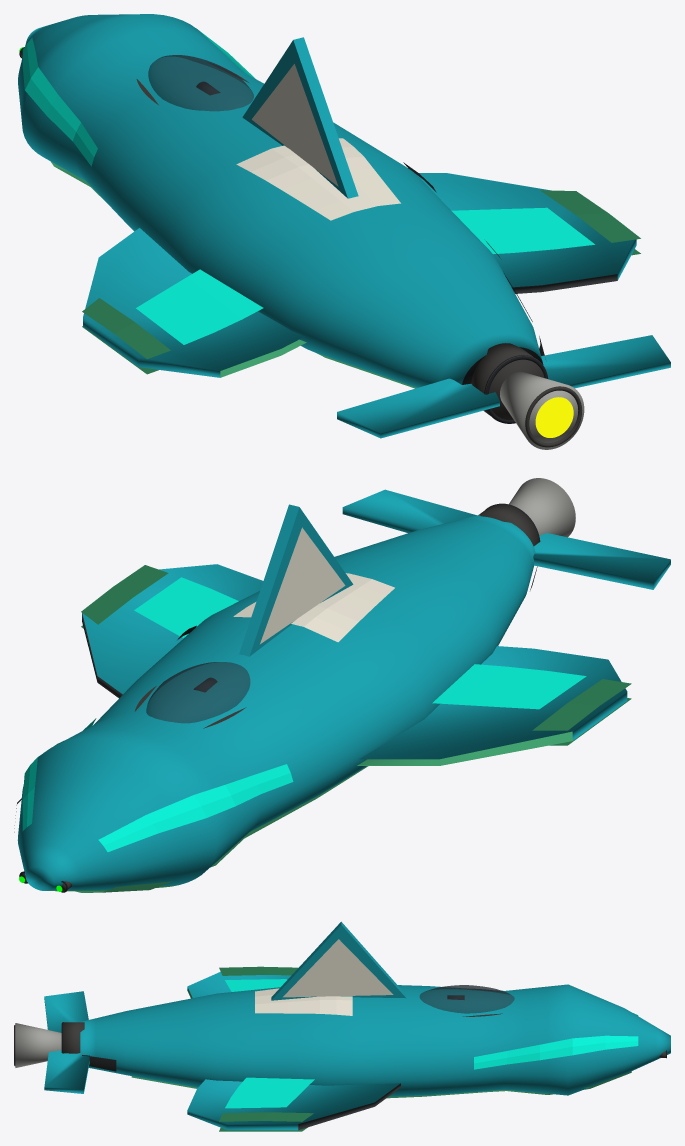
File: Ship_Orca_809222.glb
The picture shows the model from 3 angles, top to bottom: view 1: azimuth 30°, elevation 25°; view 2: azimuth 150°, elevation 25°; view 3: azimuth 270°, elevation 25°; orthographic projection. The views are drawn at different scales.
Parts seen in each view (by area): view 1: Fuselage_OrcaCountershadedHull, PectoralFin_Left_AerofoilWingFin, PectoralFin_Right_AerofoilWingFin, PaintSaddlePatch_DorsalSweptBackMark, TailFluke_Left_SweptAftStabilizer, PectoralFinPaint_Left_BroadSimplePanelTop, CanopyGlass_LowInsetDome, PectoralFinPaint_Right_BroadSimplePanelTop, TailFluke_Right_SweptAftStabilizer, DorsalFin_MainSweptKeel, DorsalFinTrimPatch_LeftFace, EngineBell_MainLargeBurnishedNozzle (+6 smaller); view 2: Fuselage_OrcaCountershadedHull, PectoralFin_Left_AerofoilWingFin, PectoralFin_Right_AerofoilWingFin, CanopyGlass_LowInsetDome, PectoralFinPaint_Left_BroadSimplePanelTop, TailFluke_Left_SweptAftStabilizer, PaintEyePatch_Left_ForwardWhiteComma, DorsalFinTrimPatch_LeftFace, DorsalFin_MainSweptKeel, PaintSaddlePatch_DorsalSweptBackMark, TailFluke_Right_SweptAftStabilizer, PectoralFinPaint_Right_BroadSimplePanelTop (+6 smaller); view 3: Fuselage_OrcaCountershadedHull, PectoralFin_Right_AerofoilWingFin, DorsalFinTrimPatch_RightFace, PaintEyePatch_Right_ForwardWhiteComma, DorsalFin_MainSweptKeel, CanopyGlass_LowInsetDome, PectoralFinPaint_Right_BroadSimplePanelTop, PaintSaddlePatch_DorsalSweptBackMark, TailFluke_Right_SweptAftStabilizer, EngineBell_MainLargeBurnishedNozzle, TailFluke_Left_SweptAftStabilizer, PectoralFin_Left_AerofoilWingFin (+6 smaller).
Part boxes in pixels (x1,y1,x2,y2): Fuselage_OrcaCountershadedHull: (18,14,543,387); PectoralFin_Left_AerofoilWingFin: (83,228,306,377); PectoralFin_Right_AerofoilWingFin: (416,173,636,293); PaintSaddlePatch_DorsalSweptBackMark: (236,138,400,220); TailFluke_Left_SweptAftStabilizer: (337,378,499,438); PectoralFinPaint_Left_BroadSimplePanelTop: (136,269,263,344); CanopyGlass_LowInsetDome: (148,55,253,111); PectoralFinPaint_Right_BroadSimplePanelTop: (451,207,594,254); TailFluke_Right_SweptAftStabilizer: (541,335,670,388); DorsalFin_MainSweptKeel: (242,37,358,198); DorsalFinTrimPatch_LeftFace: (252,64,338,186); EngineBell_MainLargeBurnishedNozzle: (500,371,584,449); Fuselage_OrcaCountershadedHull: (17,515,535,891); PectoralFin_Left_AerofoilWingFin: (357,646,627,765); PectoralFin_Right_AerofoilWingFin: (82,564,263,698); CanopyGlass_LowInsetDome: (146,662,250,723); PectoralFinPaint_Left_BroadSimplePanelTop: (432,664,586,709); TailFluke_Left_SweptAftStabilizer: (533,533,670,589); PaintEyePatch_Left_ForwardWhiteComma: (98,764,293,851); DorsalFinTrimPatch_LeftFace: (260,527,345,643); DorsalFin_MainSweptKeel: (239,504,353,656); PaintSaddlePatch_DorsalSweptBackMark: (233,573,394,642); TailFluke_Right_SweptAftStabilizer: (342,489,476,532); PectoralFinPaint_Right_BroadSimplePanelTop: (134,577,238,638); Fuselage_OrcaCountershadedHull: (80,984,670,1096); PectoralFin_Right_AerofoilWingFin: (187,1079,401,1130); DorsalFinTrimPatch_RightFace: (283,939,393,997); PaintEyePatch_Right_ForwardWhiteComma: (474,1035,638,1069); DorsalFin_MainSweptKeel: (271,921,406,1000); CanopyGlass_LowInsetDome: (419,985,514,1013); PectoralFinPaint_Right_BroadSimplePanelTop: (225,1077,314,1108); PaintSaddlePatch_DorsalSweptBackMark: (255,988,352,1015); TailFluke_Right_SweptAftStabilizer: (44,1050,89,1093); EngineBell_MainLargeBurnishedNozzle: (15,1023,61,1067); TailFluke_Left_SweptAftStabilizer: (44,991,88,1032); PectoralFin_Left_AerofoilWingFin: (187,972,291,998).
Bounding box in the file's own units: 4.29 × 2.09 × 7.68.
